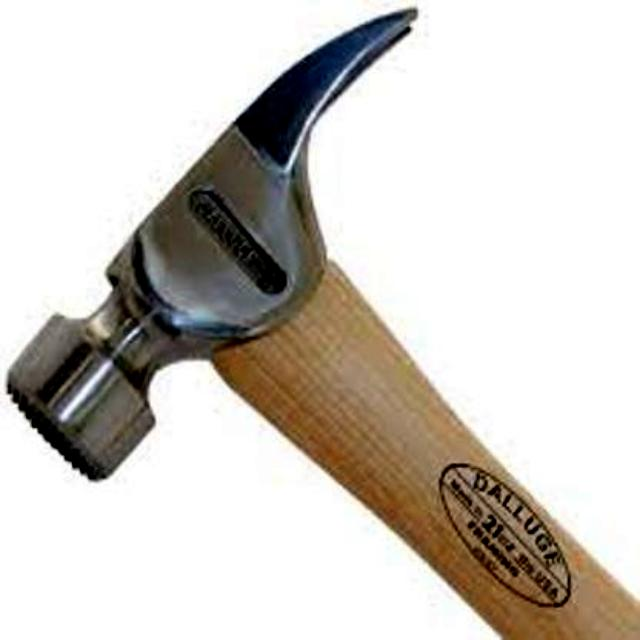hammer: (11, 8, 596, 626)
